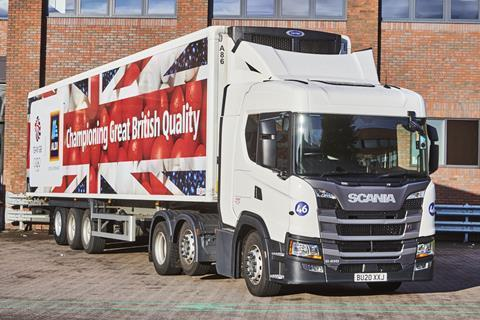truck: (27, 25, 440, 298)
